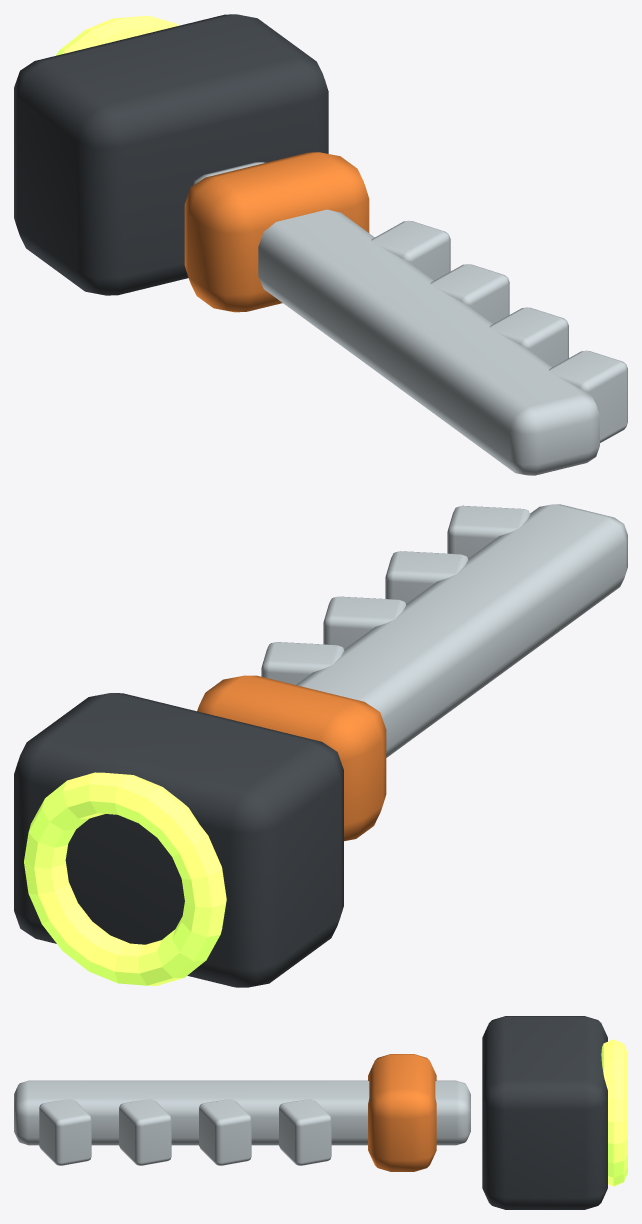
File: module-blade.glb
3 renders of one model, top to bottom at view 1: azimuth 30°, elevation 25°; view 2: azimuth 150°, elevation 25°; view 3: azimuth 270°, elevation 25°, orthographic. The views are drawn at different scales.
Parts seen in each view (by area): view 1: Universal connector, Salvaged blade, Blade orange tang, Saw tooth.003, Saw tooth, Saw tooth.001, Saw tooth.002, Standard attachment ring; view 2: Universal connector, Salvaged blade, Standard attachment ring, Blade orange tang, Saw tooth.001, Saw tooth.002, Saw tooth.003, Saw tooth; view 3: Universal connector, Salvaged blade, Blade orange tang, Standard attachment ring, Saw tooth, Saw tooth.001, Saw tooth.002, Saw tooth.003.
Part boxes in pixels (x1,y1,x2,y2): Universal connector: (14,14,328,295); Salvaged blade: (193,162,599,475); Blade orange tang: (184,152,369,312); Saw tooth.003: (549,350,627,442); Saw tooth: (371,220,450,280); Saw tooth.001: (430,264,509,323); Saw tooth.002: (489,307,568,367); Standard attachment ring: (55,16,178,55); Universal connector: (14,693,343,987); Salvaged blade: (296,504,627,757); Standard attachment ring: (24,772,226,985); Blade orange tang: (197,675,386,841); Saw tooth.001: (323,596,406,649); Saw tooth.002: (385,551,468,603); Saw tooth.003: (447,505,530,558); Saw tooth: (261,642,344,684); Universal connector: (482,1016,607,1209); Salvaged blade: (14,1080,470,1145); Blade orange tang: (368,1054,436,1171); Standard attachment ring: (601,1039,627,1186); Saw tooth: (279,1099,331,1165); Saw tooth.001: (199,1099,251,1165); Saw tooth.002: (119,1099,171,1165); Saw tooth.003: (39,1099,91,1165).
Size of the model in its own units: 0.34 by 0.26 by 1.08.
